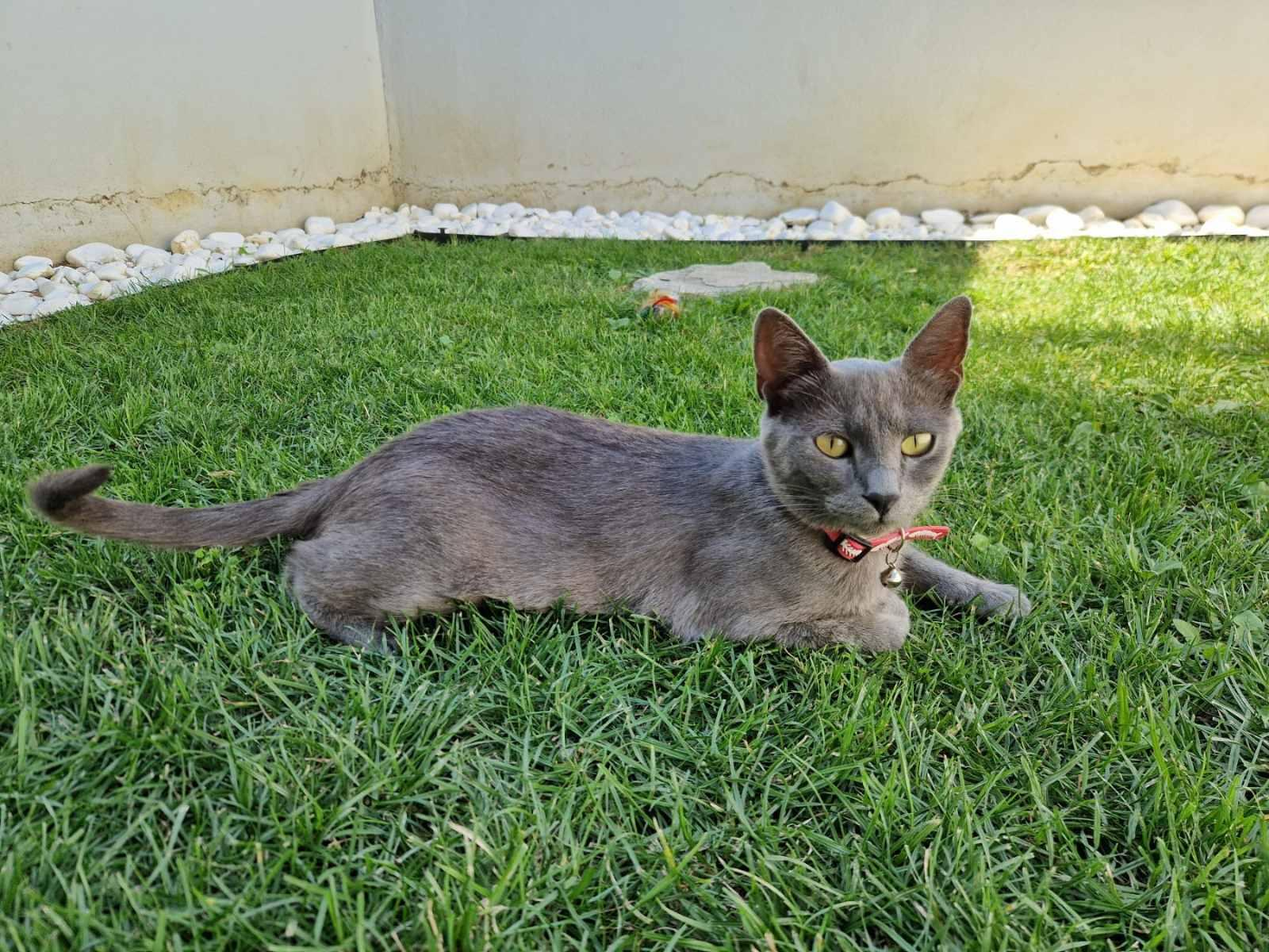macka: (30, 296, 1035, 662)
